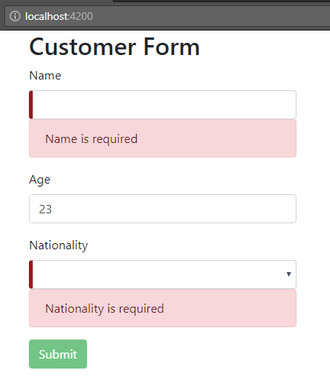error_message: (43, 130, 142, 148), (43, 301, 166, 315)
